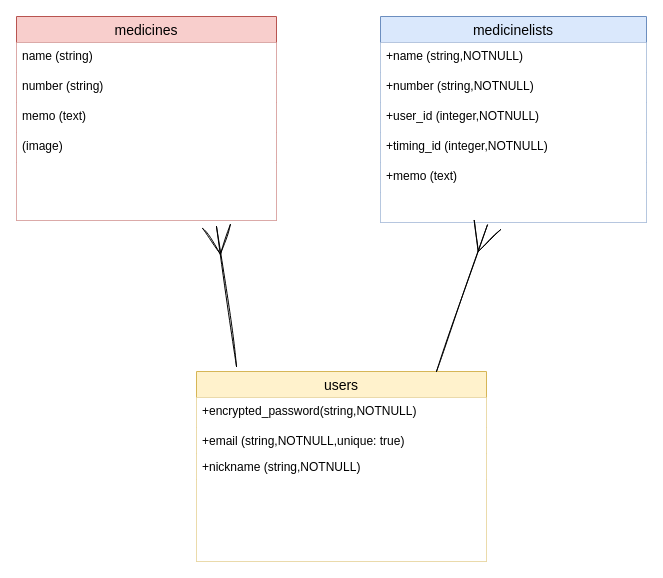
Some shapes in this 663 by 578 pixel diagram are drawn without their labels. The shapes that lost their labels are listed below. From the top down, each one's centre as x and y in pixels, then its label:
the point at 146,191: start_time (datetime,NOTNULL)
the point at 513,207: +done (boolean,NOTNULL,unique: true)
the point at 341,520: +user_id (integer, NOTNULL)
